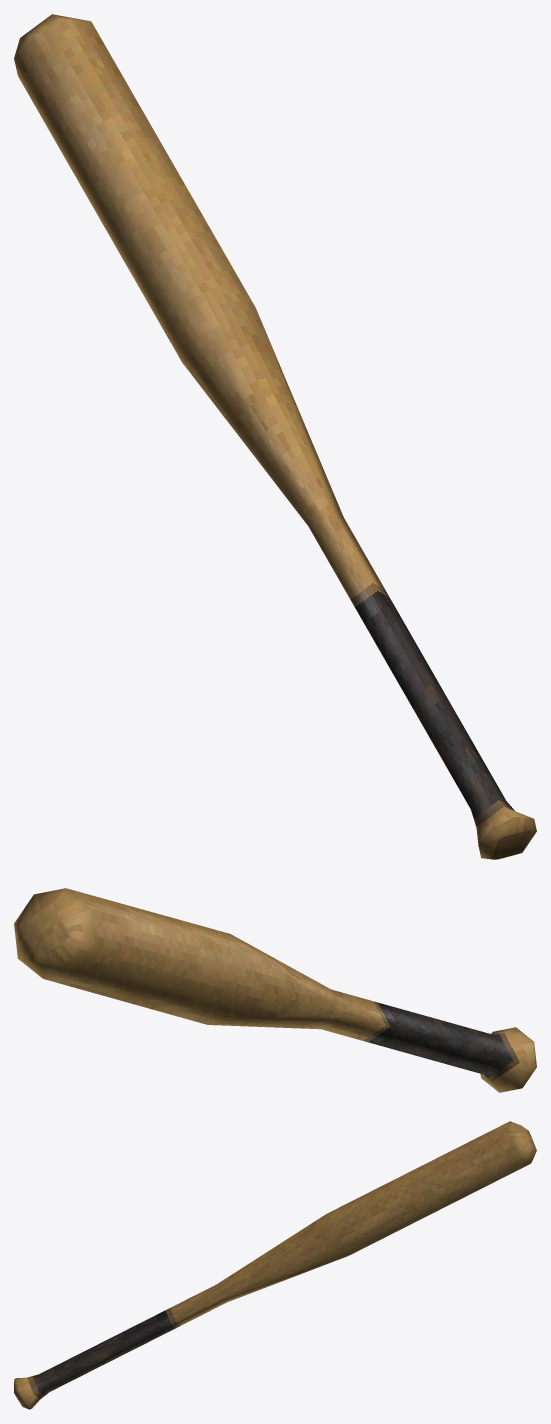
Rendered from baseball-bat.glb.
The picture shows the model from 3 angles, top to bottom: view 1: azimuth 30°, elevation 25°; view 2: azimuth 150°, elevation 25°; view 3: azimuth 270°, elevation 25°; orthographic projection. The views are drawn at different scales.
Parts seen in each view (by area): view 1: BaseballBatLow_0; view 2: BaseballBatLow_0; view 3: BaseballBatLow_0.
Part boxes in pixels (x1=…): BaseballBatLow_0: x1=14, y1=14, x2=536, y2=859; BaseballBatLow_0: x1=14, y1=888, x2=536, y2=1092; BaseballBatLow_0: x1=14, y1=1121, x2=536, y2=1409.
Bounding box in the file's own units: 0.0711 × 0.4364 × 0.7246.
Materials: 1 (1 with a texture image).
